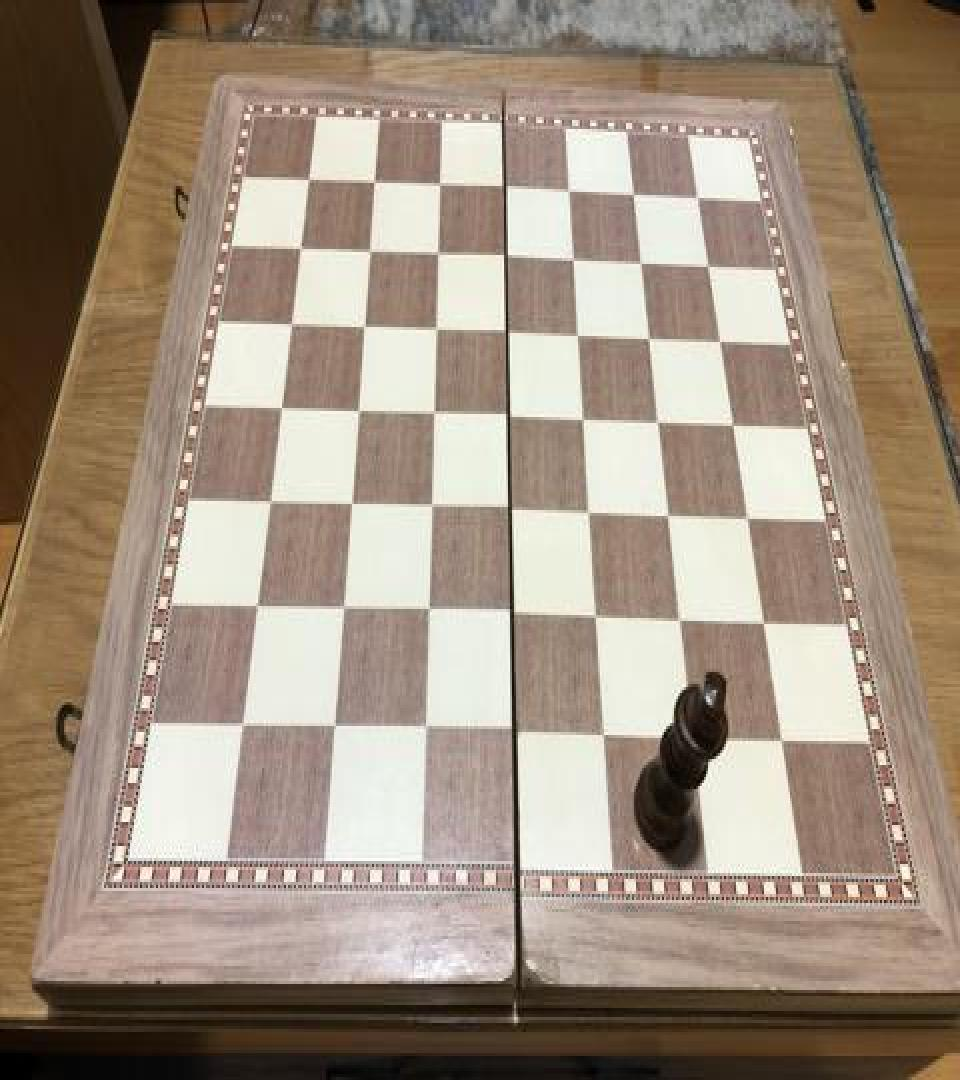xcorner: (668, 601, 692, 638), (501, 595, 525, 632), (246, 586, 270, 623), (681, 718, 705, 755), (686, 182, 710, 218), (622, 178, 646, 214), (558, 174, 582, 210), (494, 171, 518, 207), (429, 168, 453, 204), (364, 165, 388, 201), (299, 162, 323, 198), (696, 249, 720, 285), (629, 246, 653, 282), (562, 243, 586, 279), (495, 240, 519, 276), (427, 236, 451, 272), (359, 232, 383, 268), (290, 230, 314, 266), (708, 324, 732, 360), (638, 321, 662, 357), (567, 318, 591, 354), (496, 315, 520, 351), (425, 312, 449, 348), (353, 308, 377, 344), (281, 304, 305, 340), (721, 408, 745, 444), (647, 405, 671, 441), (572, 400, 596, 436), (497, 398, 521, 434), (422, 394, 446, 430), (347, 392, 371, 428), (270, 388, 294, 424), (735, 500, 759, 536), (657, 496, 681, 532), (578, 494, 602, 530), (499, 490, 523, 526), (419, 488, 443, 524), (339, 484, 363, 520), (259, 482, 283, 518), (751, 604, 775, 640), (585, 598, 609, 634), (416, 592, 440, 628), (331, 590, 355, 626), (769, 722, 793, 758), (592, 716, 616, 752), (503, 714, 527, 750), (413, 711, 437, 747), (322, 708, 346, 744), (231, 705, 255, 741)
